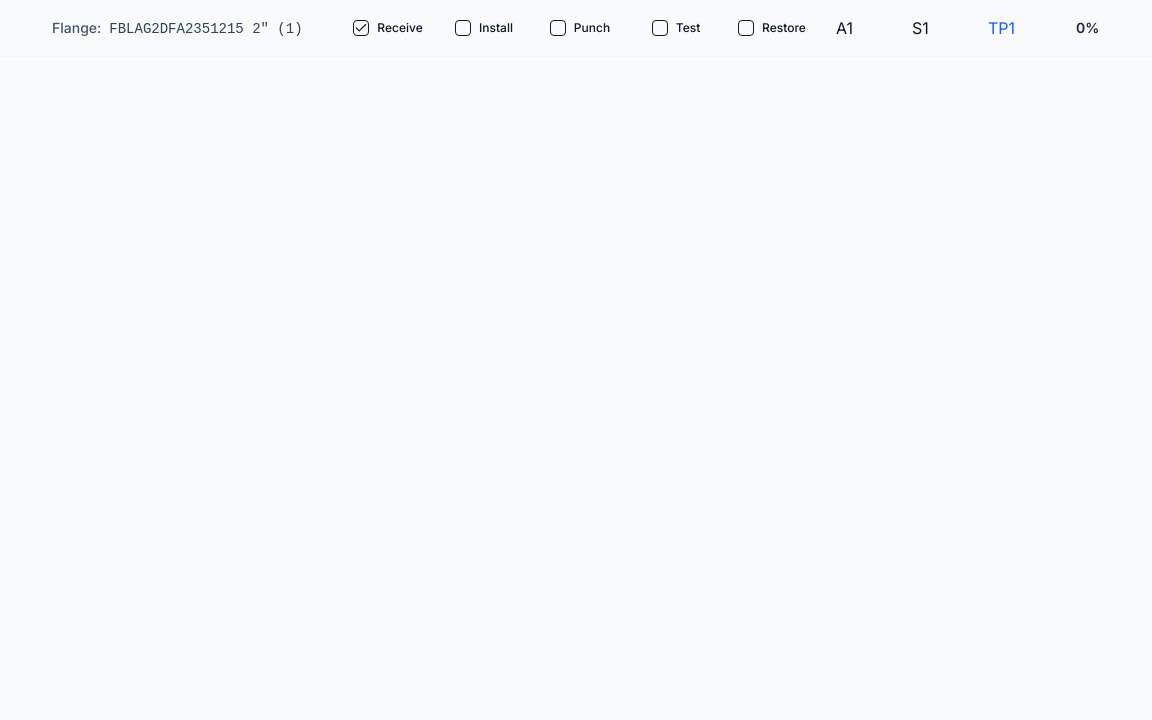
Test: ComponentRow › Rollback Confirmation Modal Integration › opens modal when unchecking a discrete milestone (100 → 0)
Note: Uncheck it
Click the checkbox named "Receive milestone".
click(361, 28)  # box top-left (353, 20), bottom-right (369, 36)
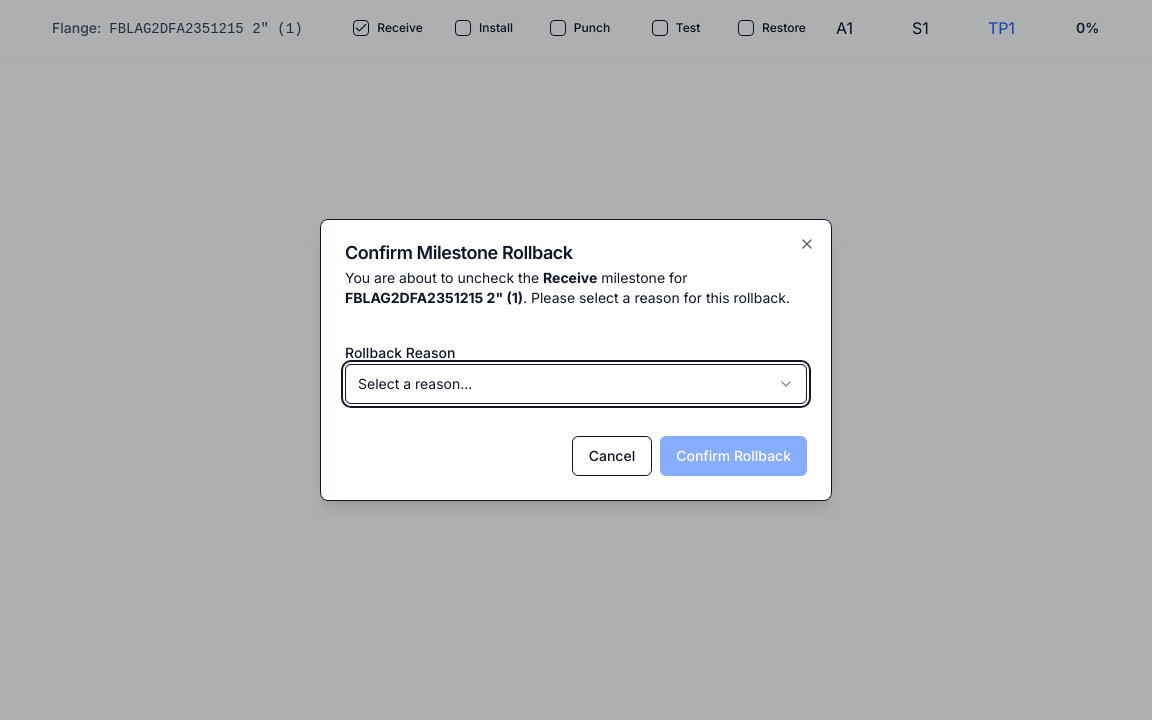
Expected: the heading "Confirm Milestone Rollback" is shown, top-left (345, 242), bottom-right (573, 263)
Expected: the text "You are about to uncheck" shows "Receive", top-left (543, 269), bottom-right (597, 286)
